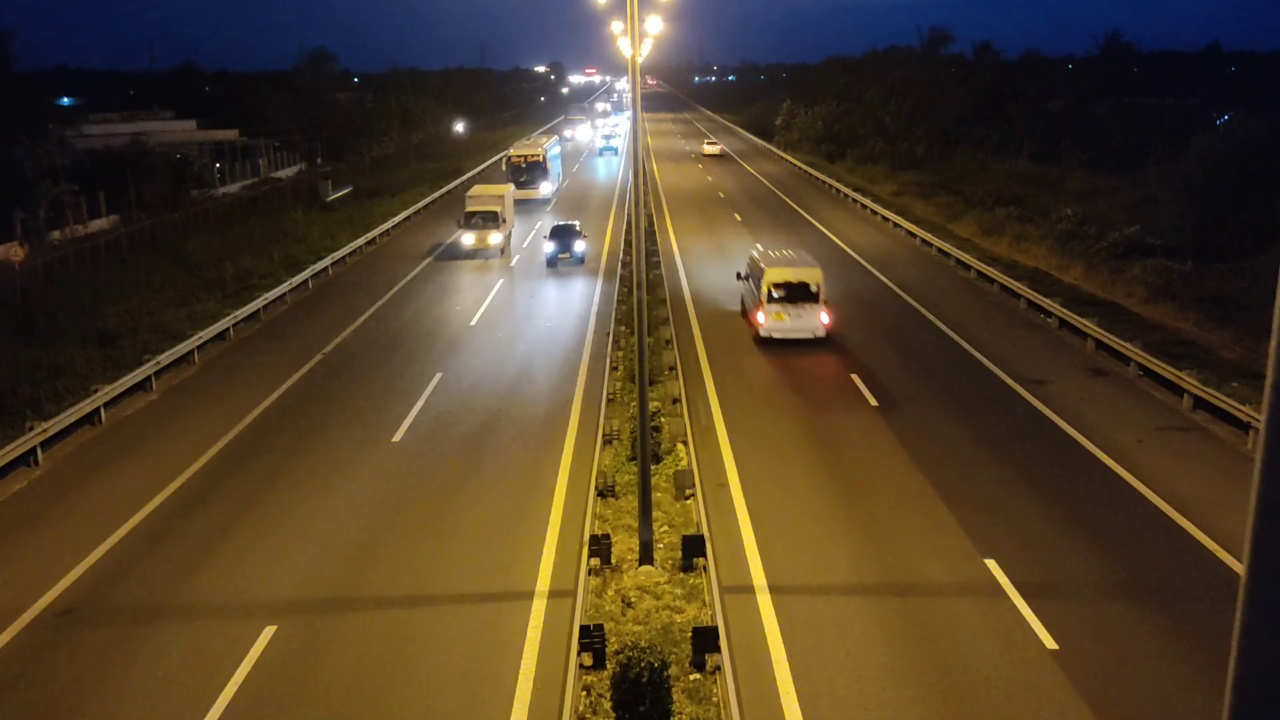bus: (504, 131, 563, 201)
car: (734, 242, 832, 349), (543, 219, 589, 268), (701, 138, 724, 156)
truck: (454, 178, 518, 260)
